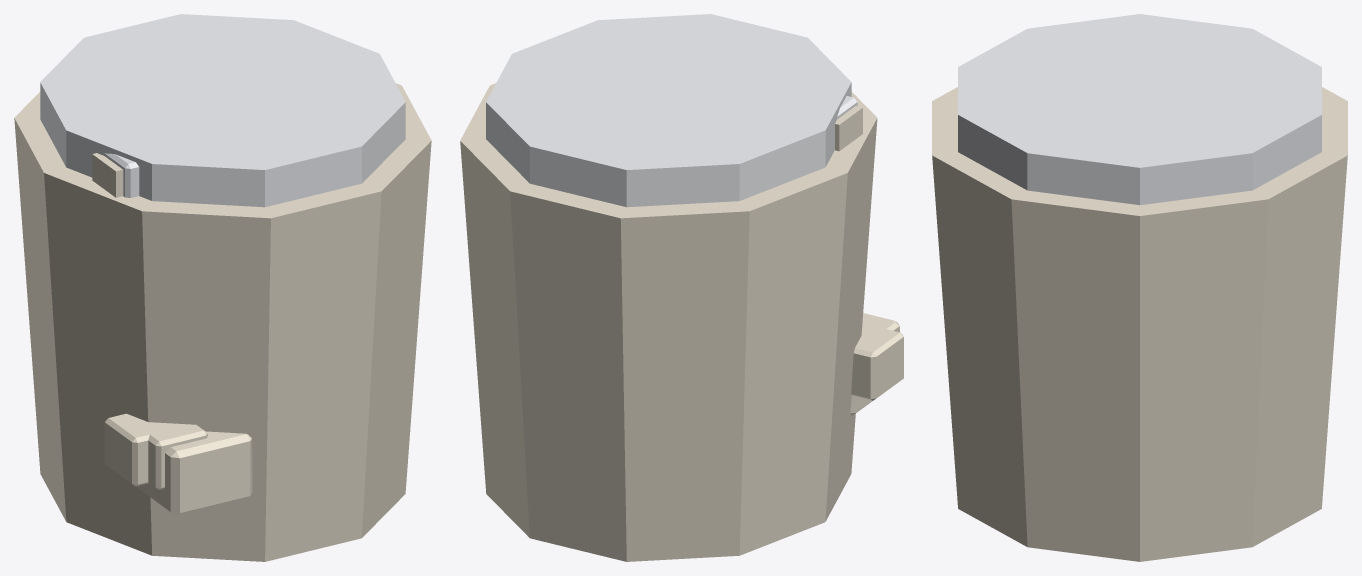
Rendered from b17_tennis_ball.glb.
The picture shows the model from 3 angles, left to right: view 1: azimuth 30°, elevation 25°; view 2: azimuth 150°, elevation 25°; view 3: azimuth 270°, elevation 25°; orthographic projection.
Visible parts, largest first — view 1: b17_tennis_ball; view 2: b17_tennis_ball; view 3: b17_tennis_ball.
Part boxes in pixels (x1,y1,x2,y2): b17_tennis_ball: (14, 14, 431, 561); b17_tennis_ball: (460, 14, 903, 561); b17_tennis_ball: (932, 14, 1347, 561).
Bounding box in the file's own units: 0.065 × 0.068 × 0.065.
